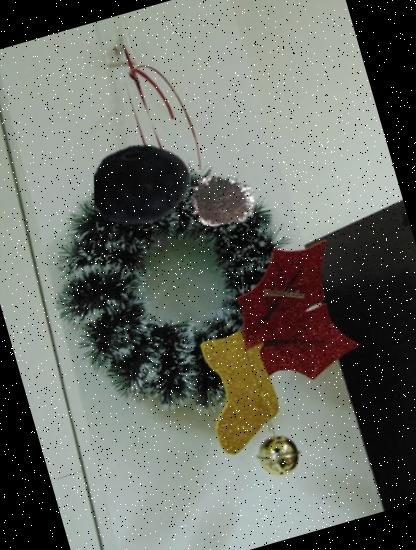Blueberry: (82, 124, 203, 245)
Rambutan: (182, 162, 262, 241)
